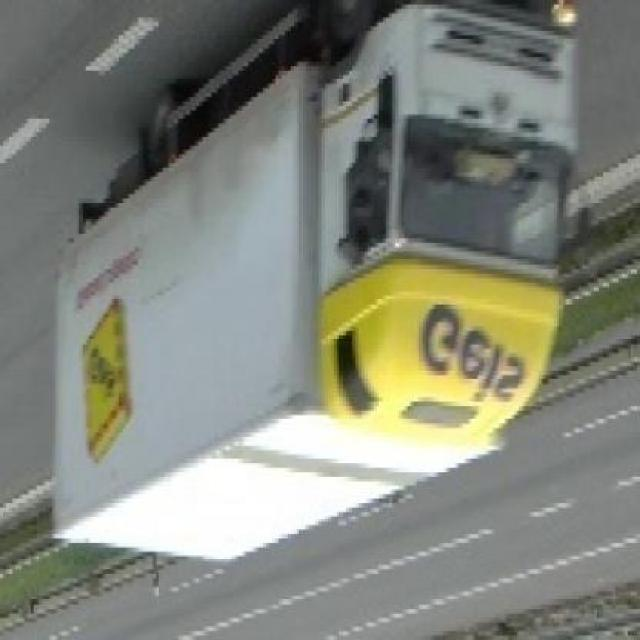truck: (59, 6, 596, 575)
